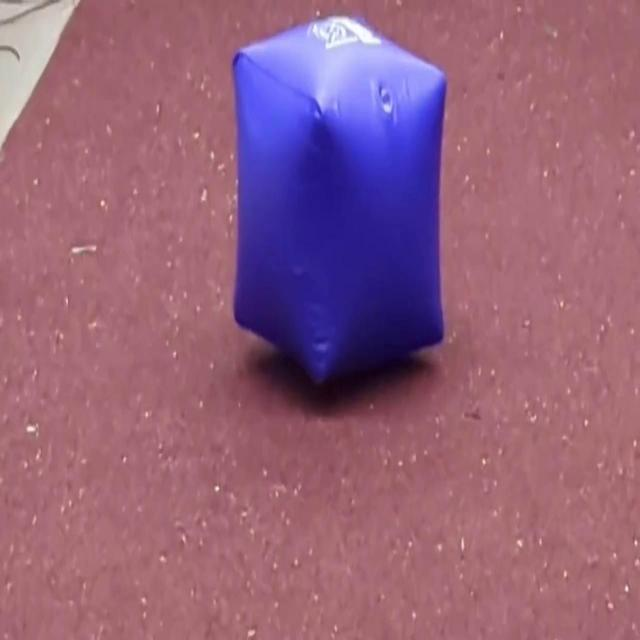frc_cube: (231, 9, 449, 396)
